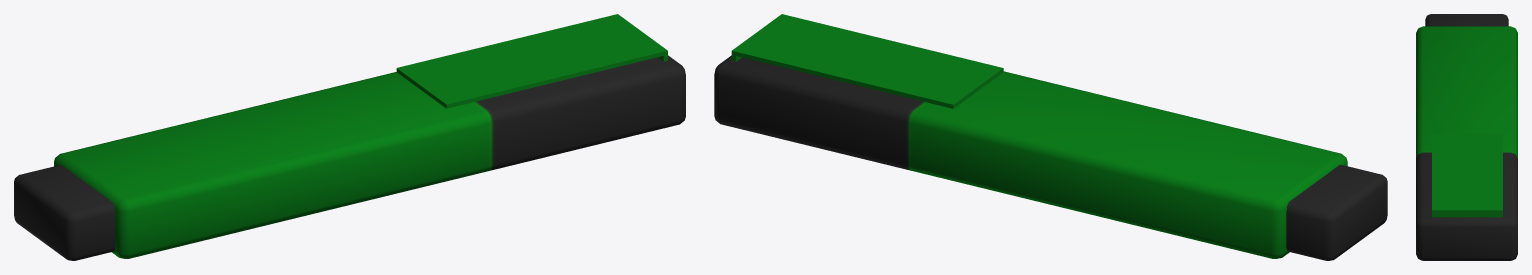
Rendered from marker green.FBX.
3 views of the same model, side by side, from view 1: azimuth 30°, elevation 25°; view 2: azimuth 150°, elevation 25°; view 3: azimuth 270°, elevation 25° (orthographic). The views are drawn at different scales.
Visible parts, largest first — view 1: marker green; view 2: marker green; view 3: marker green.
Part boxes in pixels (x1,y1,x2,y2): marker green: [14, 14, 685, 260]; marker green: [714, 14, 1387, 260]; marker green: [1416, 14, 1517, 260].
Size of the model in its own units: 4.72 by 0.954 by 0.5144.
Materials: 1 (1 with a texture image).
